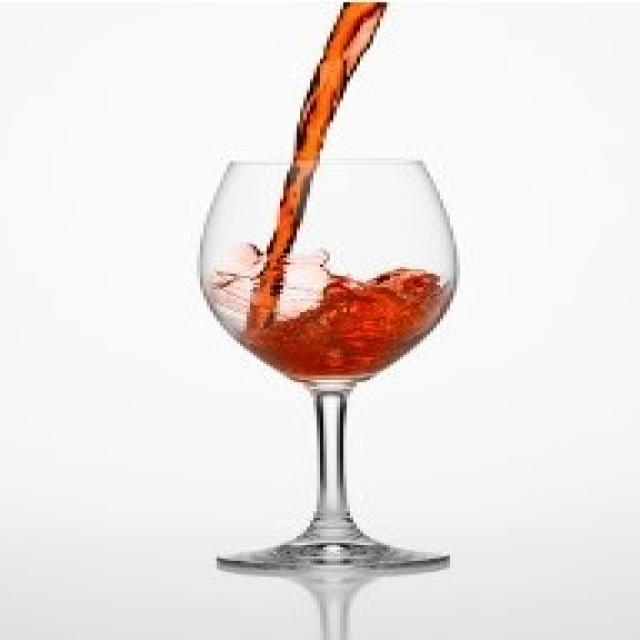electronic: (188, 154, 466, 581)
